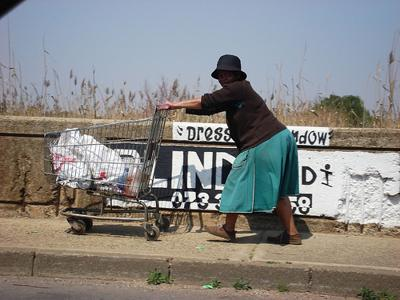person: (153, 55, 305, 246)
